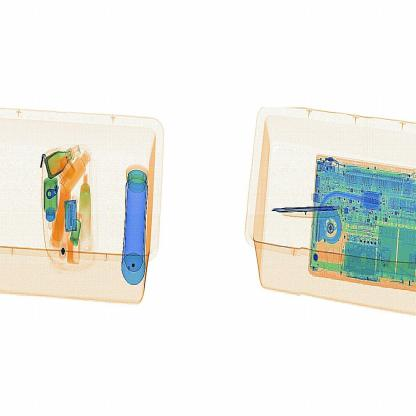pliers: (266, 203, 351, 220)
